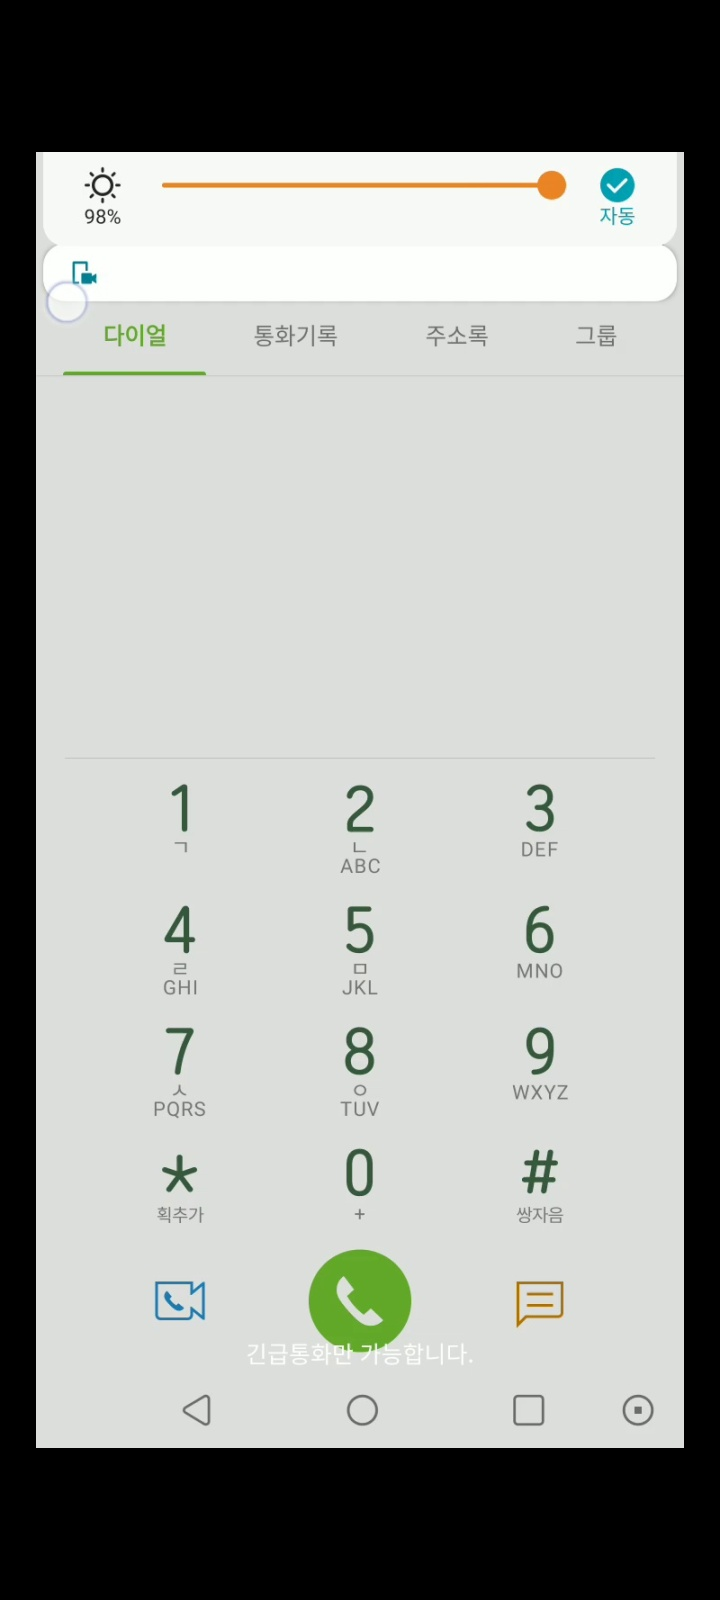Cursor: (45, 280, 90, 324)
